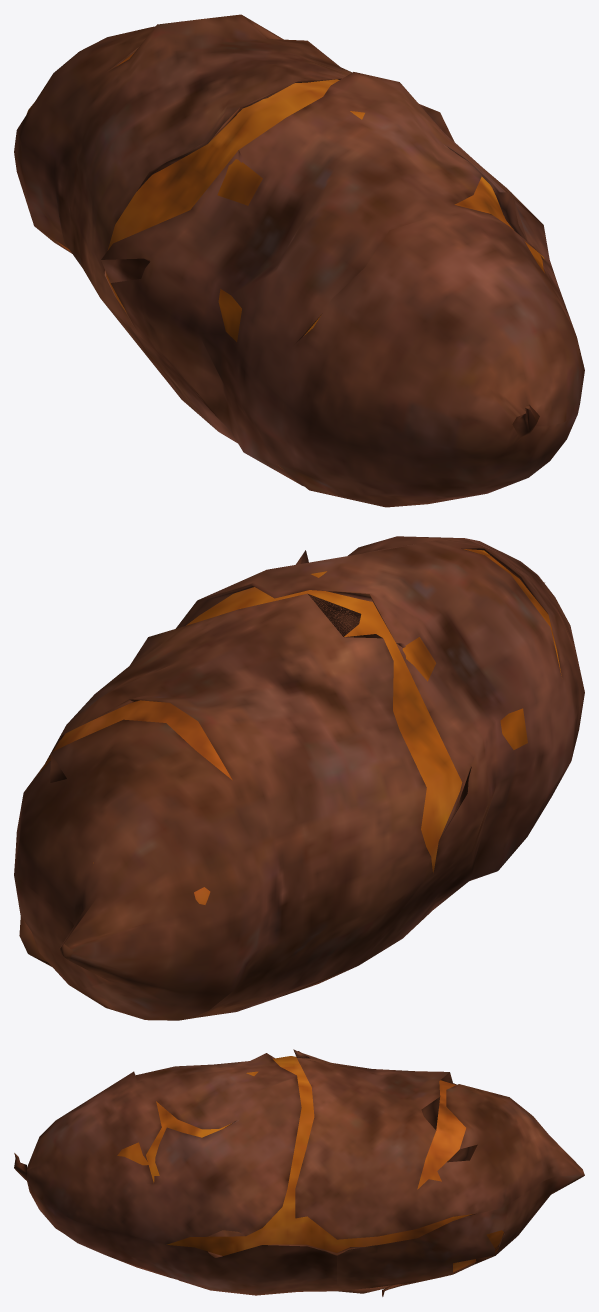
Rendered from BBQPotato.glb.
3 views of the same model, one above another, from view 1: azimuth 30°, elevation 25°; view 2: azimuth 150°, elevation 25°; view 3: azimuth 270°, elevation 25° (orthographic). The views are drawn at different scales.
Parts seen in each view (by area): view 1: polySurface3(Clone)_Quality_55; view 2: polySurface3(Clone)_Quality_55; view 3: polySurface3(Clone)_Quality_55.
Part boxes in pixels (x1=…): polySurface3(Clone)_Quality_55: x1=14, y1=14, x2=584, y2=507; polySurface3(Clone)_Quality_55: x1=14, y1=536, x2=584, y2=1020; polySurface3(Clone)_Quality_55: x1=14, y1=1049, x2=584, y2=1296.
Size of the model in its own units: 0.9552 by 0.8992 by 2.1.
1 material, 1 textured.
